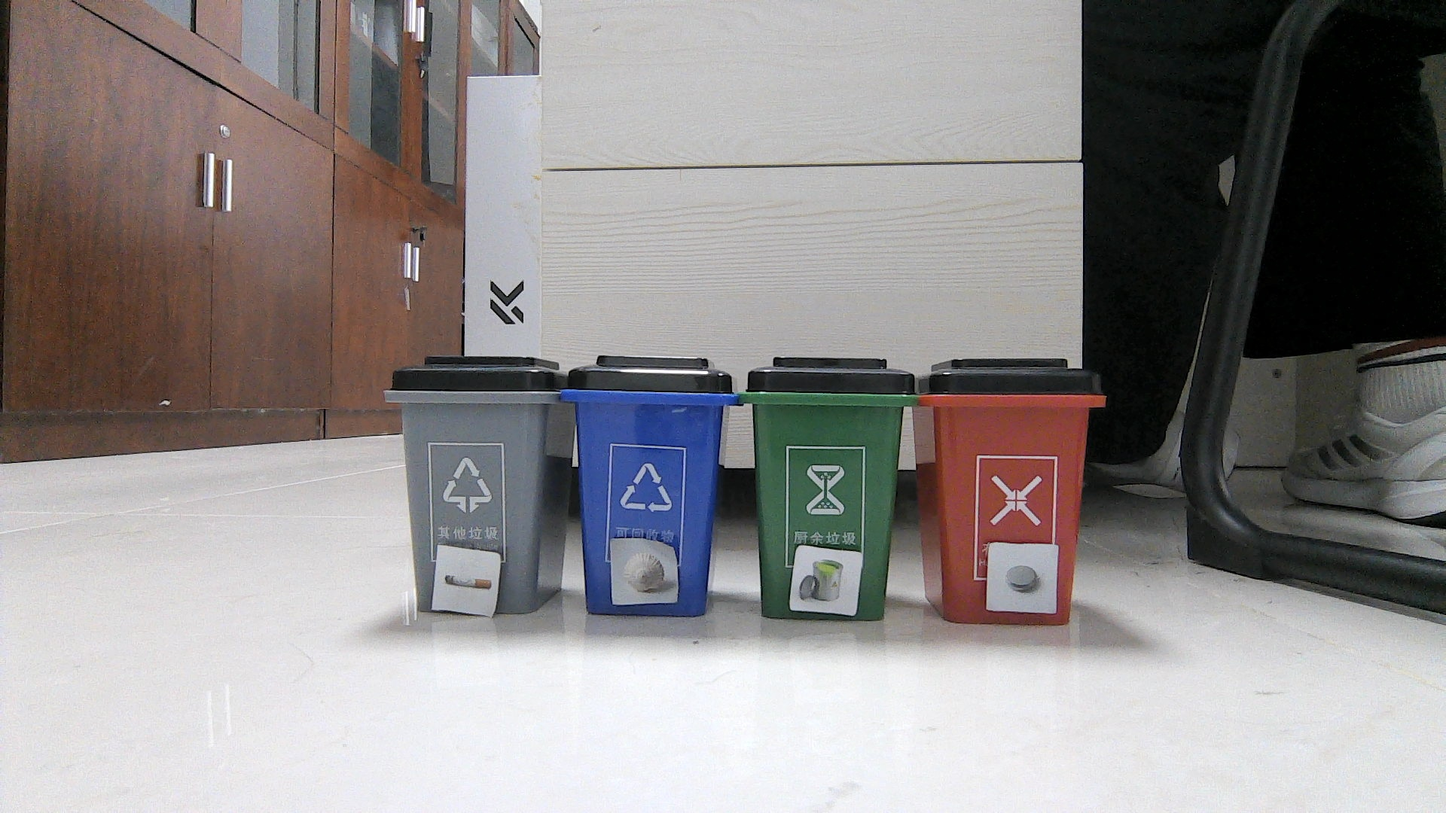hazardous_trash: (989, 542, 1054, 609), (798, 548, 852, 608)
other_trash: (614, 541, 671, 604), (440, 551, 498, 610)
